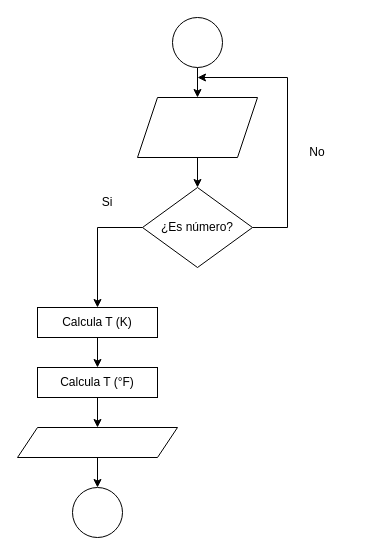
This 365x555 diagram has some shape labels left out. The centre of each missing label's shape, as x and y in pixels:
Imprime resultados: point 97,442
Input Temperatura: point 197,127
